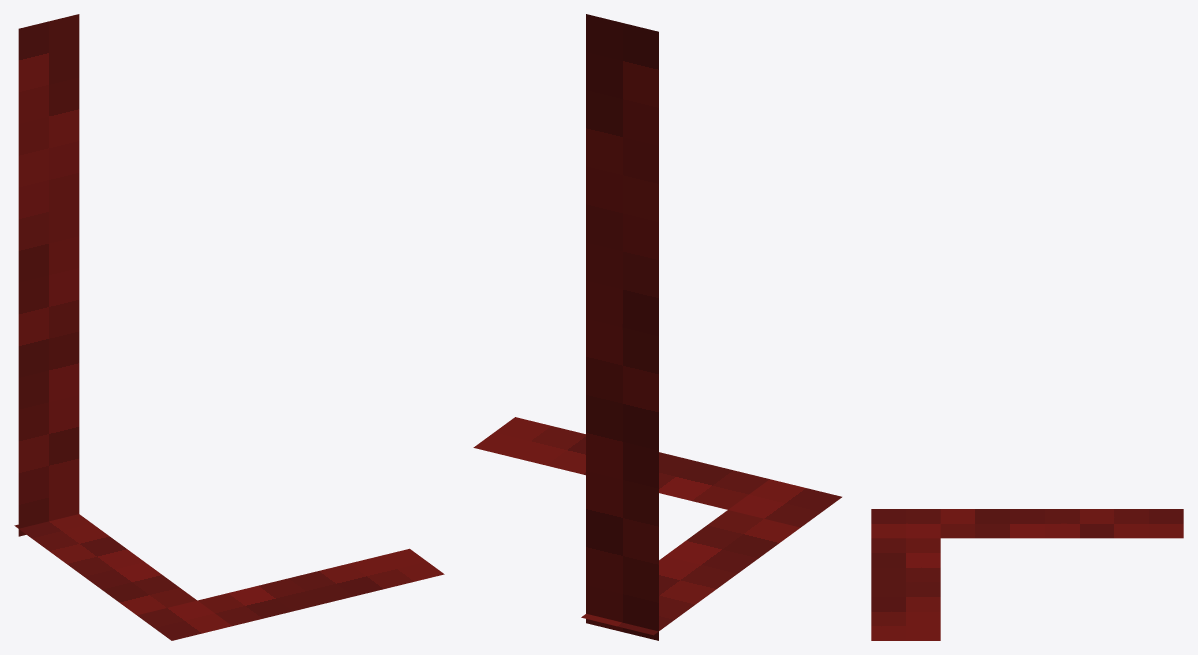
The model's file is dust_1002.gltf.
3 views of the same model, side by side, from view 1: azimuth 30°, elevation 25°; view 2: azimuth 150°, elevation 25°; view 3: azimuth 270°, elevation 25° (orthographic). The views are drawn at different scales.
Visible parts, largest first — view 1: dust_1002; view 2: dust_1002; view 3: dust_1002.
Boxes of the visible parts, left/top/right/bottom form: dust_1002: left=14, top=14, right=444, bottom=640; dust_1002: left=473, top=14, right=841, bottom=640; dust_1002: left=871, top=509, right=1183, bottom=640.
Size of the model in its own units: 0.5625 by 1 by 0.5625.
Materials: 1 (1 with a texture image).
